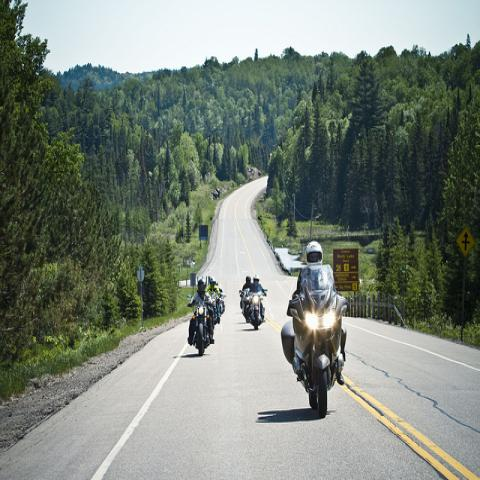motorcycle: (289, 262, 343, 418), (192, 302, 210, 356), (248, 292, 266, 330), (241, 287, 251, 324), (211, 292, 218, 324), (218, 294, 226, 313), (215, 293, 219, 299)
